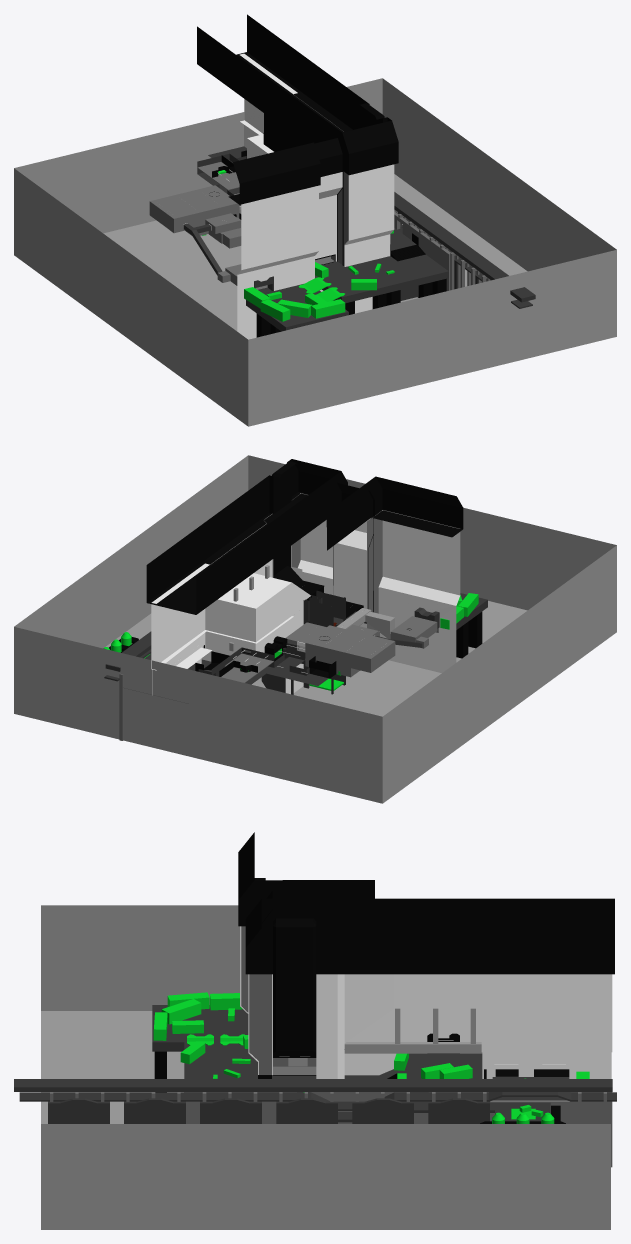
The model's file is map_bombBuilding.fbx.
3 views of the same model, one above another, from view 1: azimuth 30°, elevation 25°; view 2: azimuth 150°, elevation 25°; view 3: azimuth 270°, elevation 25° (orthographic). The views are drawn at different scales.
Parts seen in each view (by area): view 1: mesh_bombBuilding.082, mesh_bombBuilding.050, mesh_bombBuilding.087, mesh_bombBuilding.079, mesh_bombBuilding.032, mesh_bombBuilding.026, megabuilding.008, mesh_bombBuilding.017, megabuilding.002, mesh_bombBuilding.080, mesh_bombBuilding.086, mesh_bombBuilding.001 (+5 smaller); view 2: mesh_bombBuilding.082, mesh_bombBuilding.050, mesh_bombBuilding.080, mesh_bombBuilding.087, mesh_bombBuilding.079, megabuilding.008, mesh_bombBuilding.032, megabuilding, mesh_bombBuilding.086, mesh_bombBuilding.029, mesh_bombBuilding.011, mesh_bombBuilding.083 (+9 smaller); view 3: mesh_bombBuilding.082, mesh_bombBuilding.050, mesh_bombBuilding.080, mesh_bombBuilding.018, mesh_bombBuilding.017, megabuilding, mesh_bombBuilding.081, mesh_bombBuilding, mesh_bombBuilding.079, mesh_bombBuilding.003, mesh_bombBuilding.034, mesh_bombBuilding.001 (+8 smaller).
Boxes of the visible parts, left/top/right/bottom form: mesh_bombBuilding.082: left=14, top=78, right=616, bottom=426; mesh_bombBuilding.050: left=197, top=14, right=398, bottom=175; mesh_bombBuilding.087: left=238, top=164, right=394, bottom=274; mesh_bombBuilding.079: left=228, top=106, right=343, bottom=204; mesh_bombBuilding.032: left=149, top=185, right=241, bottom=248; mesh_bombBuilding.026: left=315, top=254, right=448, bottom=303; megabuilding.008: left=237, top=256, right=314, bottom=339; mesh_bombBuilding.017: left=394, top=192, right=535, bottom=302; megabuilding.002: left=344, top=234, right=390, bottom=313; mesh_bombBuilding.080: left=239, top=53, right=343, bottom=158; mesh_bombBuilding.086: left=319, top=172, right=342, bottom=241; mesh_bombBuilding.001: left=246, top=284, right=348, bottom=331; mesh_bombBuilding.082: left=14, top=455, right=616, bottom=803; mesh_bombBuilding.050: left=146, top=459, right=347, bottom=614; mesh_bombBuilding.080: left=151, top=513, right=310, bottom=670; mesh_bombBuilding.087: left=298, top=493, right=460, bottom=605; mesh_bombBuilding.079: left=326, top=476, right=463, bottom=550; megabuilding.008: left=378, top=587, right=456, bottom=672; mesh_bombBuilding.032: left=305, top=625, right=395, bottom=677; megabuilding: left=152, top=607, right=303, bottom=695; mesh_bombBuilding.086: left=291, top=518, right=370, bottom=593; mesh_bombBuilding.029: left=198, top=643, right=328, bottom=685; mesh_bombBuilding.011: left=303, top=590, right=345, bottom=694; mesh_bombBuilding.083: left=367, top=510, right=382, bottom=595; mesh_bombBuilding.082: left=41, top=905, right=610, bottom=1229; mesh_bombBuilding.050: left=245, top=898, right=614, bottom=974; mesh_bombBuilding.080: left=316, top=974, right=612, bottom=1052; mesh_bombBuilding.018: left=48, top=1098, right=489, bottom=1123; mesh_bombBuilding.017: left=14, top=1079, right=612, bottom=1091; megabuilding: left=316, top=1022, right=611, bottom=1078; mesh_bombBuilding.081: left=273, top=918, right=316, bottom=1032; mesh_bombBuilding: left=19, top=1092, right=616, bottom=1110; mesh_bombBuilding.079: left=238, top=832, right=374, bottom=926; mesh_bombBuilding.003: left=184, top=1092, right=612, bottom=1167; mesh_bombBuilding.034: left=273, top=1053, right=569, bottom=1100; mesh_bombBuilding.001: left=152, top=1005, right=248, bottom=1051.
Size of the model in its own units: 197 by 96.65 by 230.
